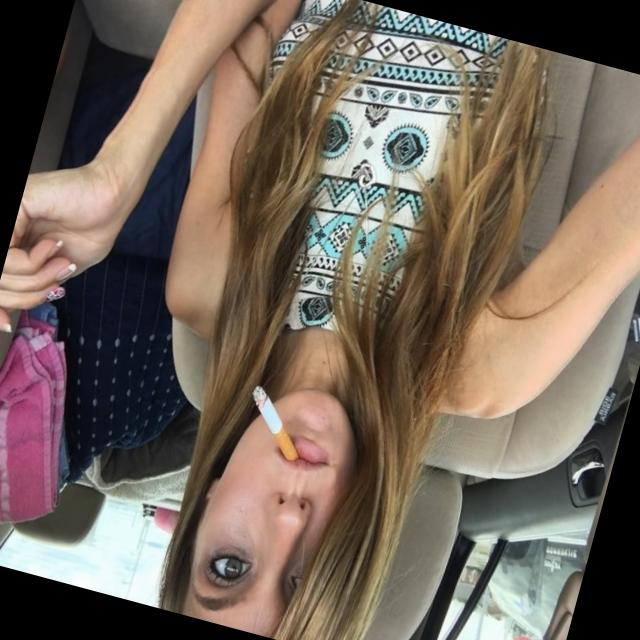smoke: (230, 373, 316, 470)
